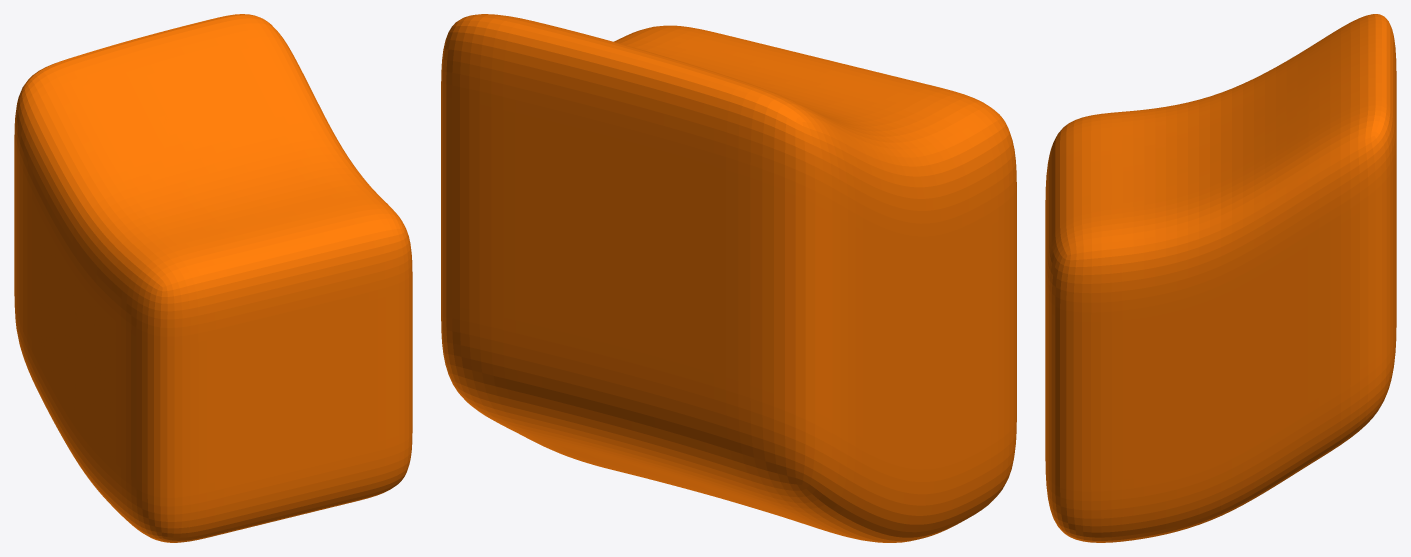
3 renders of one model, left to right at view 1: azimuth 30°, elevation 25°; view 2: azimuth 150°, elevation 25°; view 3: azimuth 270°, elevation 25°, orthographic. The views are drawn at different scales.
Parts seen in each view (by area): view 1: smooth_1_base.007; view 2: smooth_1_base.007; view 3: smooth_1_base.007.
Part boxes in pixels (<box>): smooth_1_base.007: <box>14,14,412,542</box>; smooth_1_base.007: <box>441,14,1016,542</box>; smooth_1_base.007: <box>1045,14,1396,542</box>.
Bounding box in the file's own units: 60 × 80.74 × 60.
